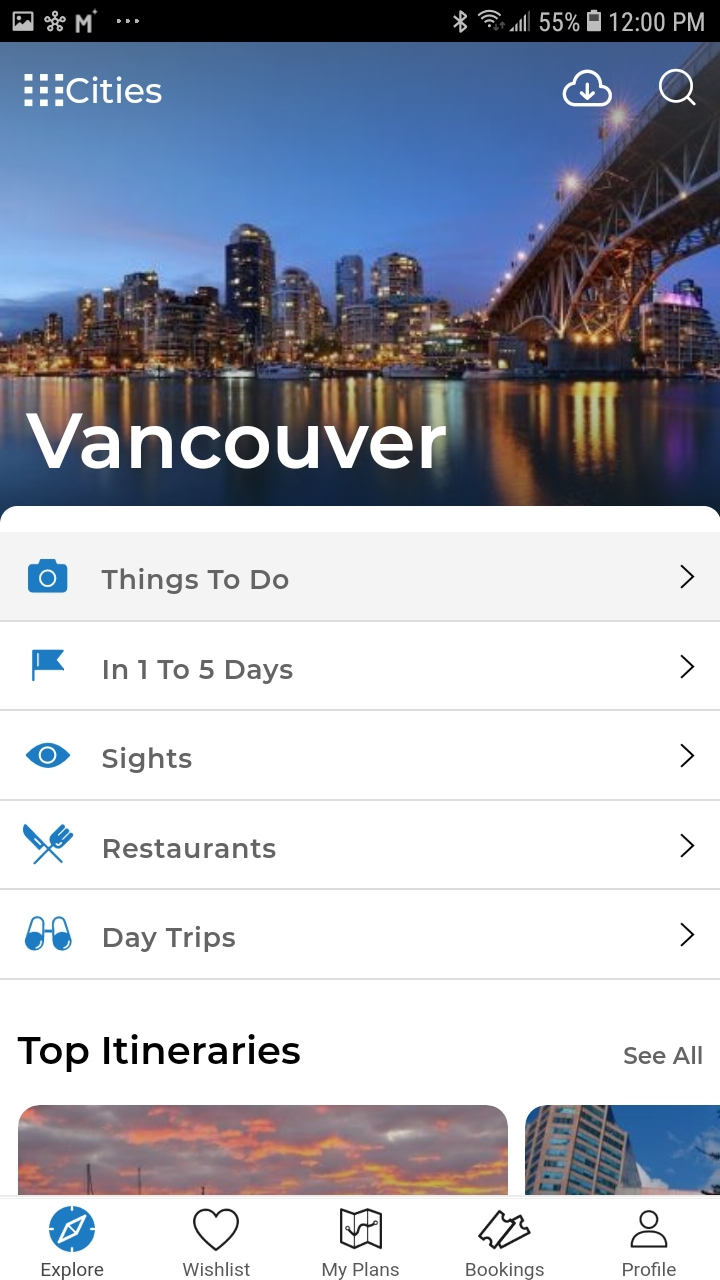Icon: (478, 1209, 532, 1250), (50, 1206, 96, 1252), (193, 1208, 240, 1251), (562, 70, 613, 109), (340, 1208, 383, 1249), (630, 1210, 668, 1249), (28, 558, 69, 594), (658, 69, 696, 107), (24, 74, 65, 108), (26, 742, 72, 769), (680, 923, 694, 947), (681, 834, 695, 858), (681, 744, 695, 768), (681, 655, 695, 679), (680, 565, 694, 589)
Image: (1, 43, 720, 506), (19, 1105, 508, 1195), (525, 1106, 720, 1196), (23, 824, 75, 865), (26, 915, 74, 951), (32, 649, 65, 682)
Text: (26, 413, 447, 470), (18, 1033, 301, 1073), (102, 567, 289, 595), (104, 659, 294, 685), (104, 925, 236, 953), (104, 839, 277, 859), (67, 77, 164, 105), (103, 747, 192, 774), (624, 1045, 703, 1065), (466, 1262, 545, 1280), (323, 1262, 400, 1280), (43, 1262, 105, 1280), (183, 1262, 251, 1277), (622, 1261, 677, 1277)
UpperTaskBar: (1, 1, 720, 43)
